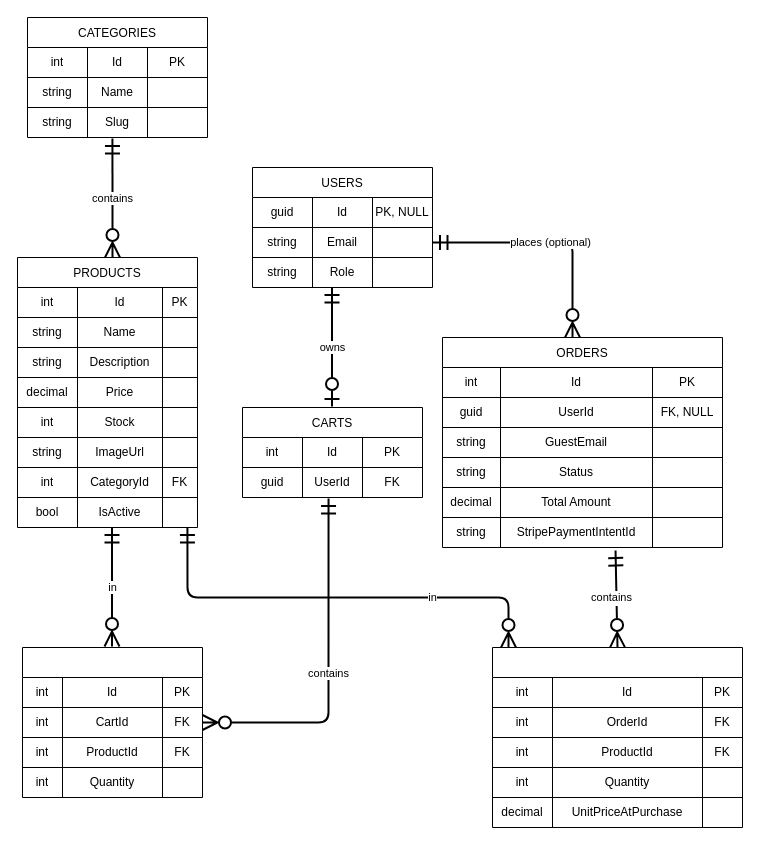
Some shapes in this 760 by 845 pixel diagram are drawn without their labels. Each missing label, with the box of its shape:
CARTITEMS: (22, 646, 202, 798)
ORDERITEMS: (492, 646, 742, 828)
